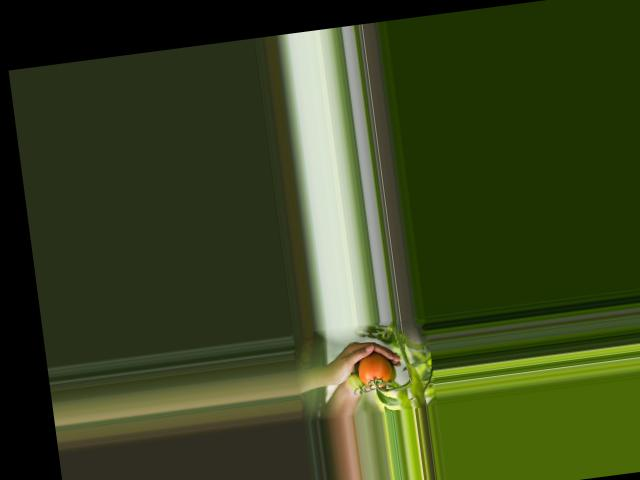tomato: (356, 352, 392, 389)
